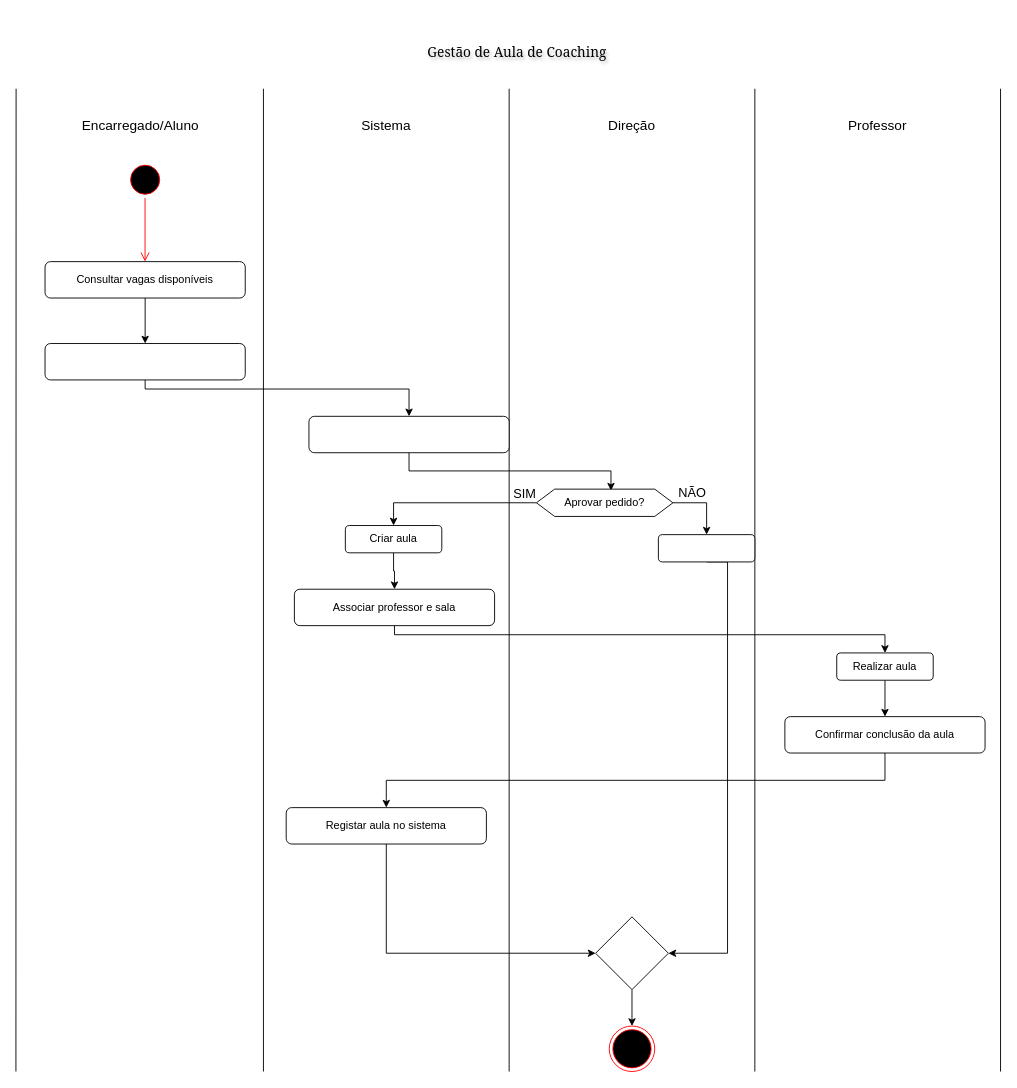
Image size: 1017x1088. Some labels were removed from this diagram. The centre of each missing label's shape, as x and y in pixels:
Rejeitar pedido: the point at 706,548
Submeter pedido de aula: the point at 144,361
Validar disponibilidade (Professor e sala): the point at 408,434
